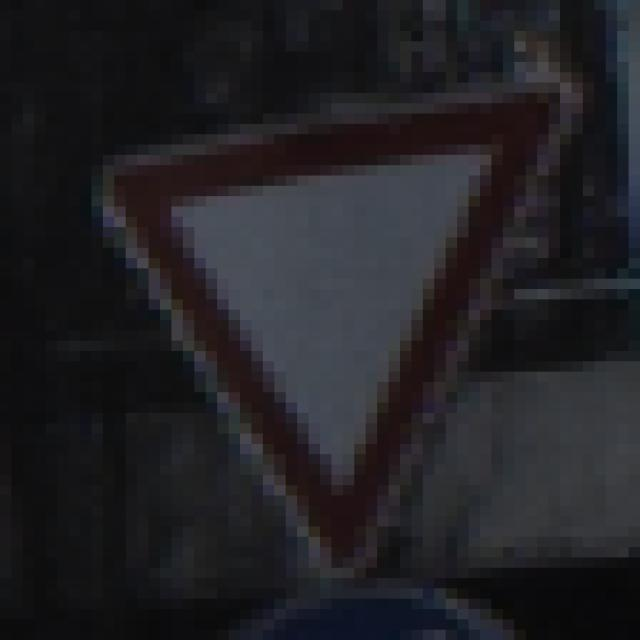Give Way: (69, 53, 584, 590)
